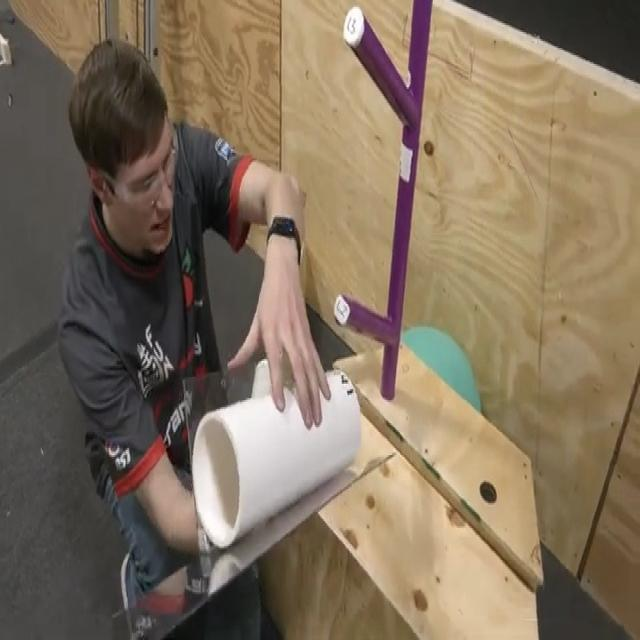Coral: (190, 359, 362, 549)
